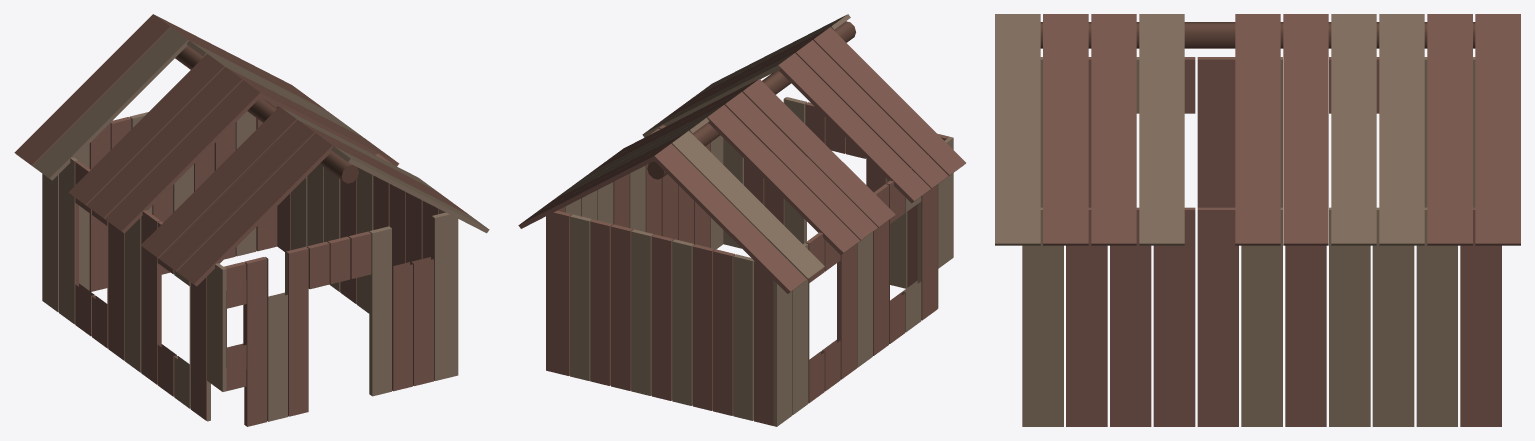
Rendered from 07 House.FBX.
3 views of the same model, side by side, from view 1: azimuth 30°, elevation 25°; view 2: azimuth 150°, elevation 25°; view 3: azimuth 270°, elevation 25° (orthographic). The views are drawn at different scales.
Visible parts, largest first — view 1: House; view 2: House; view 3: House.
Part boxes in pixels (box(x1,y1,x2,y2)): House: box(14, 14, 489, 426); House: box(518, 14, 965, 426); House: box(995, 14, 1520, 426).
Bounding box in the file's own units: 794 × 691 × 979.
